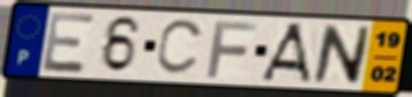6: (97, 14, 141, 75)
A: (258, 21, 315, 86)
C: (153, 17, 207, 77)
E: (40, 10, 98, 75)
F: (204, 18, 260, 80)
N: (310, 23, 374, 87)
